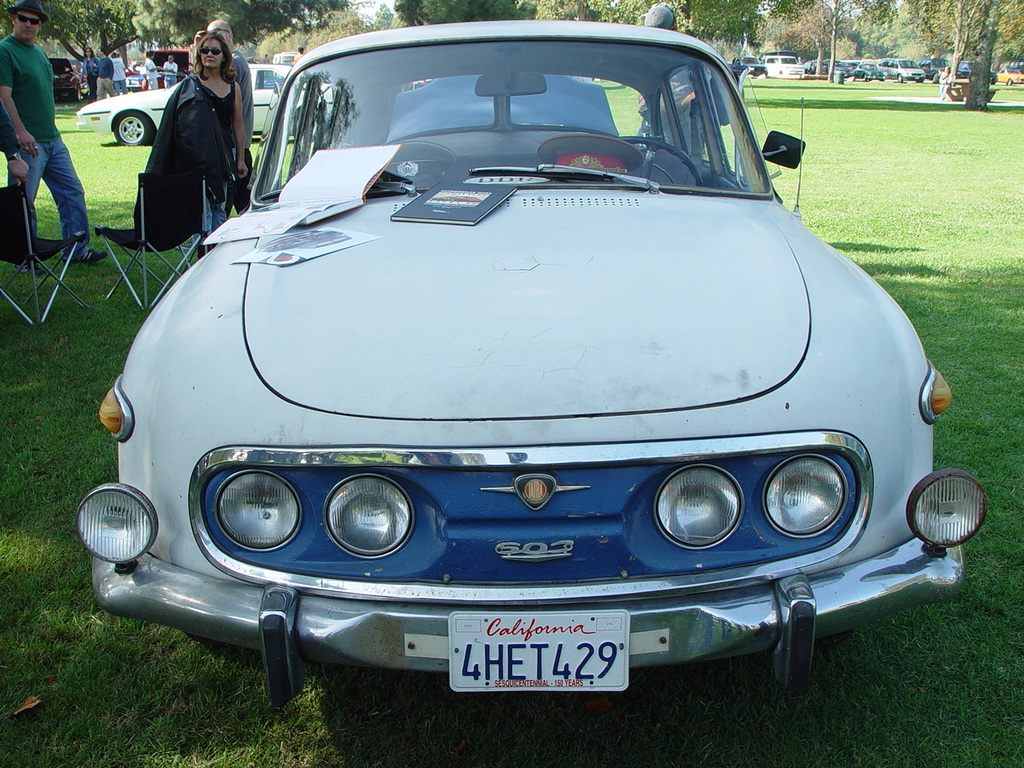Car: (76, 16, 988, 695), (75, 55, 330, 148), (732, 47, 1023, 83)
